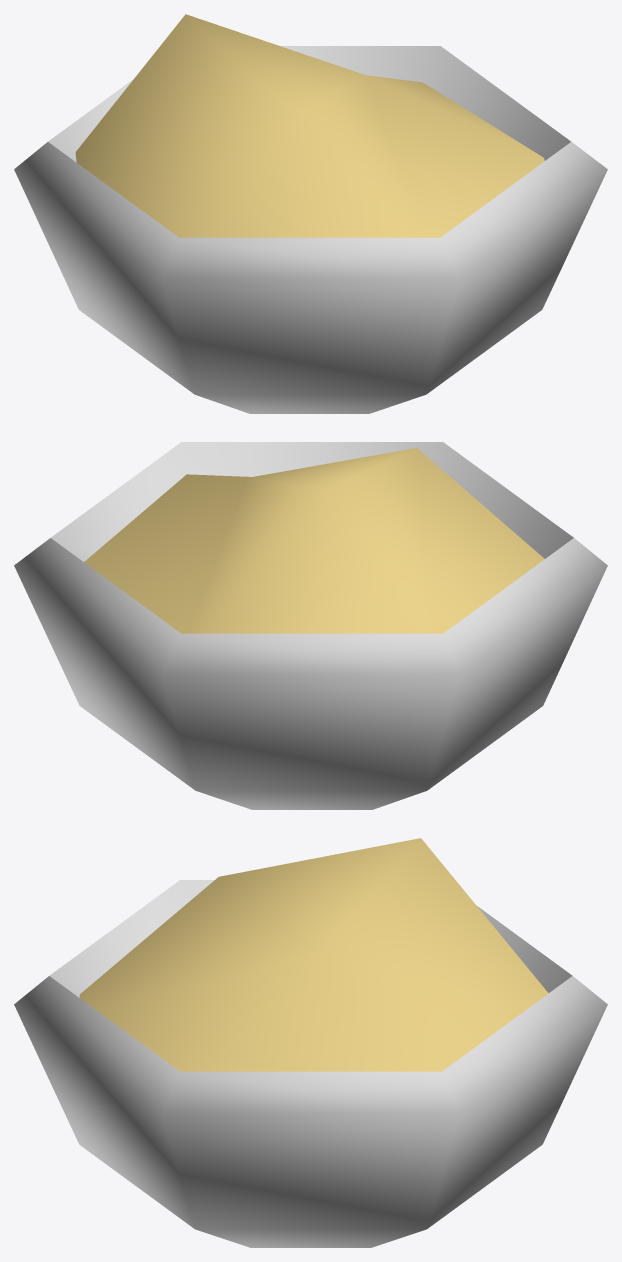
Rendered from unfiredBowlFilled.glb.
3 renders of one model, top to bottom at view 1: azimuth 30°, elevation 25°; view 2: azimuth 150°, elevation 25°; view 3: azimuth 270°, elevation 25°, orthographic.
Visible parts, largest first — view 1: Cube, wheat; view 2: Cube, wheat; view 3: Cube, wheat.
Part boxes in pixels (x1,y1,x2,y2): Cube: [14, 46, 607, 413]; wheat: [75, 14, 544, 237]; Cube: [14, 442, 607, 809]; wheat: [84, 448, 544, 633]; Cube: [14, 880, 607, 1247]; wheat: [79, 838, 548, 1071].
Bounding box in the file's own units: 0.2467 × 0.1758 × 0.2849.
